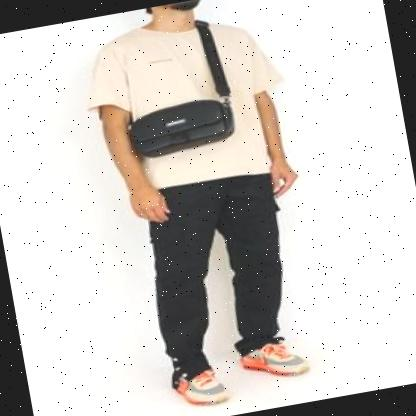bag: (100, 82, 254, 175)
